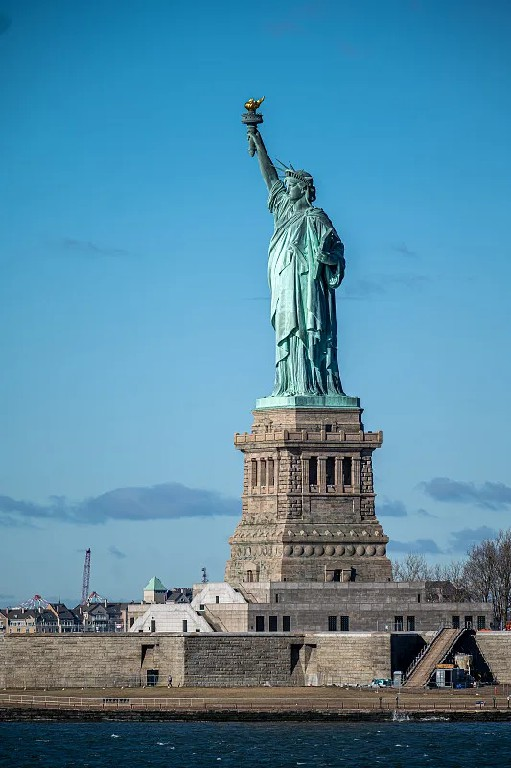SL: (225, 95, 395, 585)
